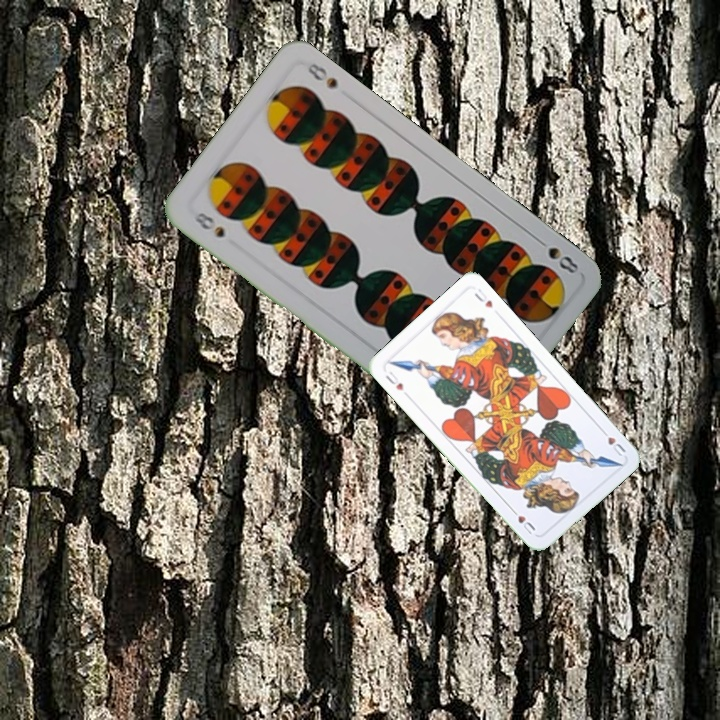HU: (597, 425, 628, 459), (381, 367, 406, 393)
S8: (531, 233, 581, 276), (189, 208, 228, 241)
